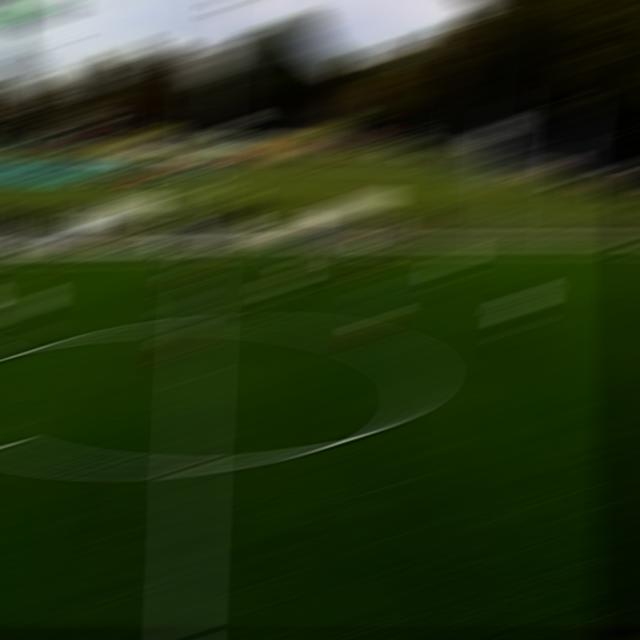halfcircle_bottom: (170, 453, 210, 482)
halfcircle_top: (180, 322, 213, 329)
